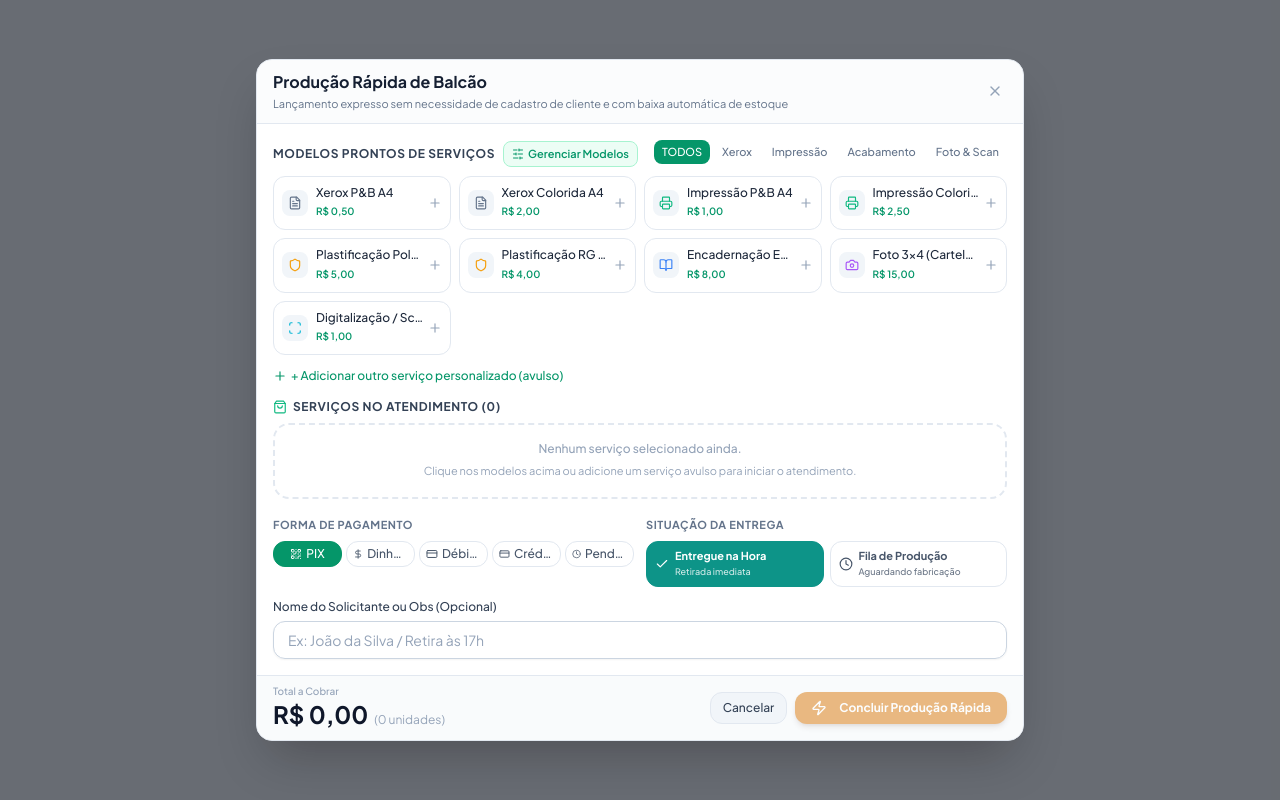
Test: QuickProductionModal › increments and decrements material quantity per unit as clean integers without decimals
# Add 1 Xerox P&B A4
Click the button "Xerox P&B A4 R$ 0,50": (362, 203) [273,176,450,230]
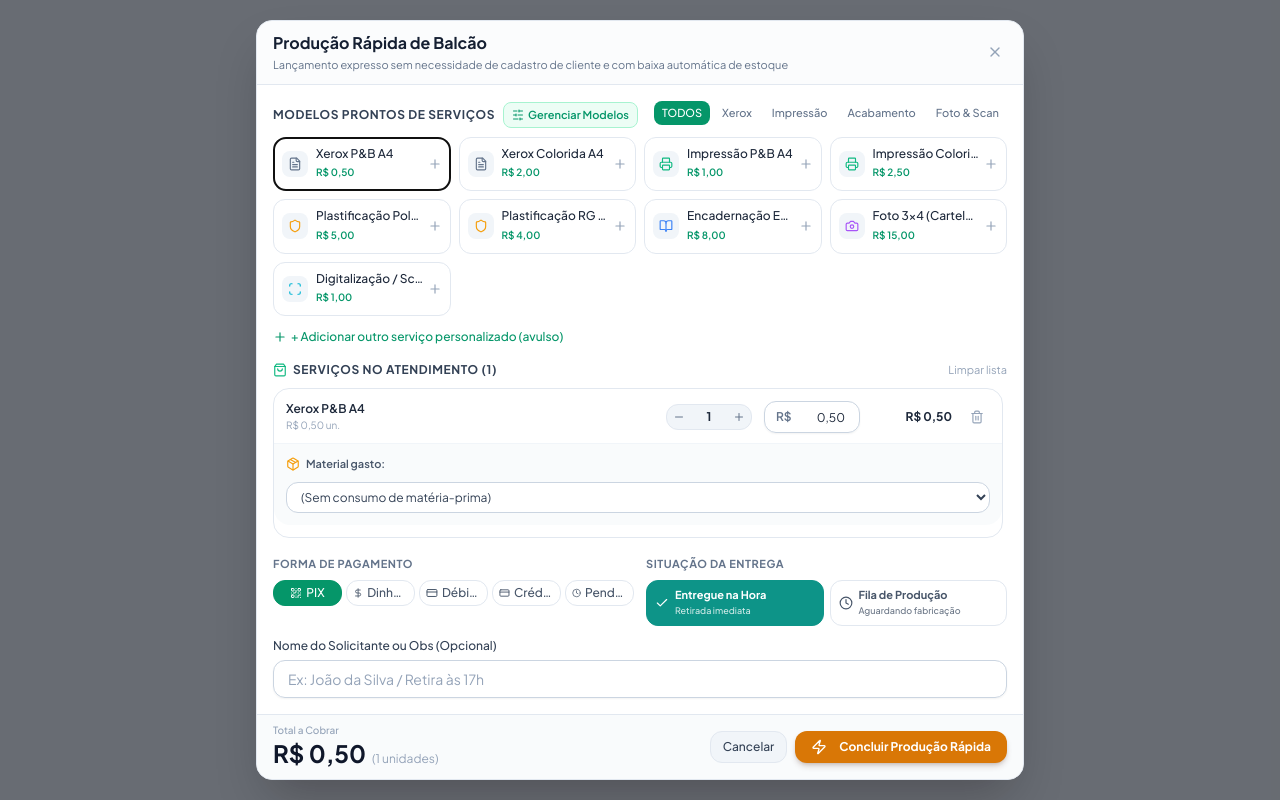
Select "Papel Sulfite A4 75g — Estoque: 2,500 FL" in the dropdown: (638, 498) [286,482,990,513]
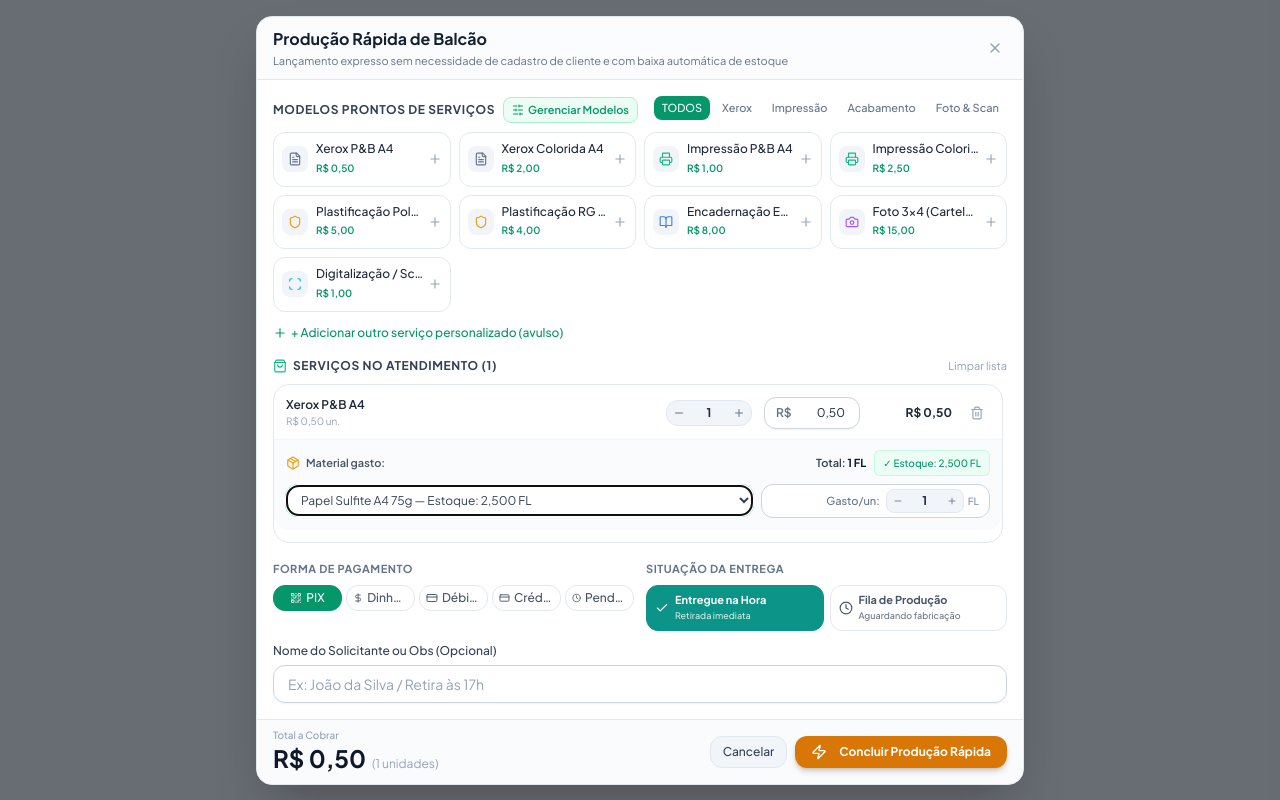
expect the text "1 FL" is shown: met, box [848,456,866,468]
expect the number field titled "Quantidade de material gasta por unidade deste serviço" holds "1": met, box [909,492,941,508]
# Clica para aumentar: deve ir para 2 (e não 1,01 ou 2,01)
Click the button named "aumentar gasto de material": (952, 500) [943,492,961,510]
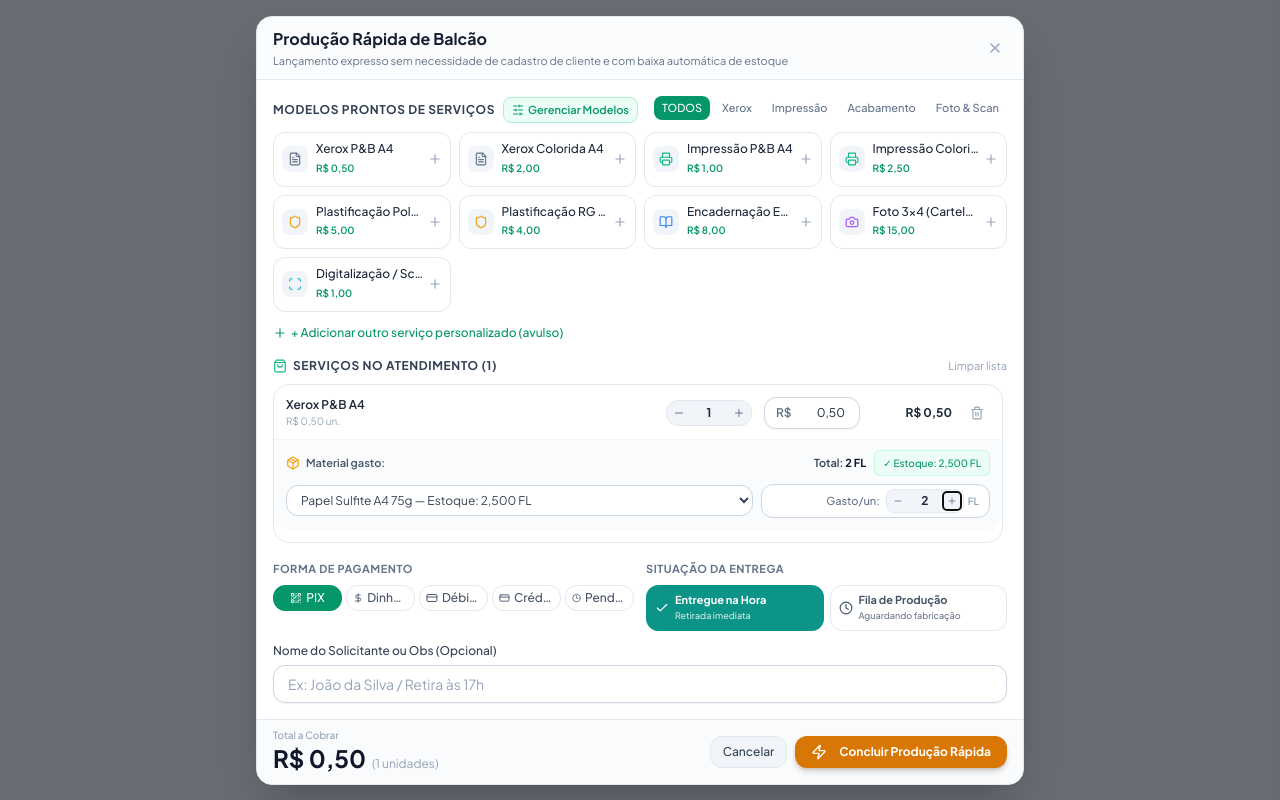
expect the number field titled "Quantidade de material gasta por unidade deste serviço" holds "2": met, box [909,492,941,508]
expect the text "2 FL" is shown: met, box [845,456,866,468]
# Clica para aumentar novamente: deve ir para 3
Click the button named "aumentar gasto de material": (952, 500) [943,492,961,510]
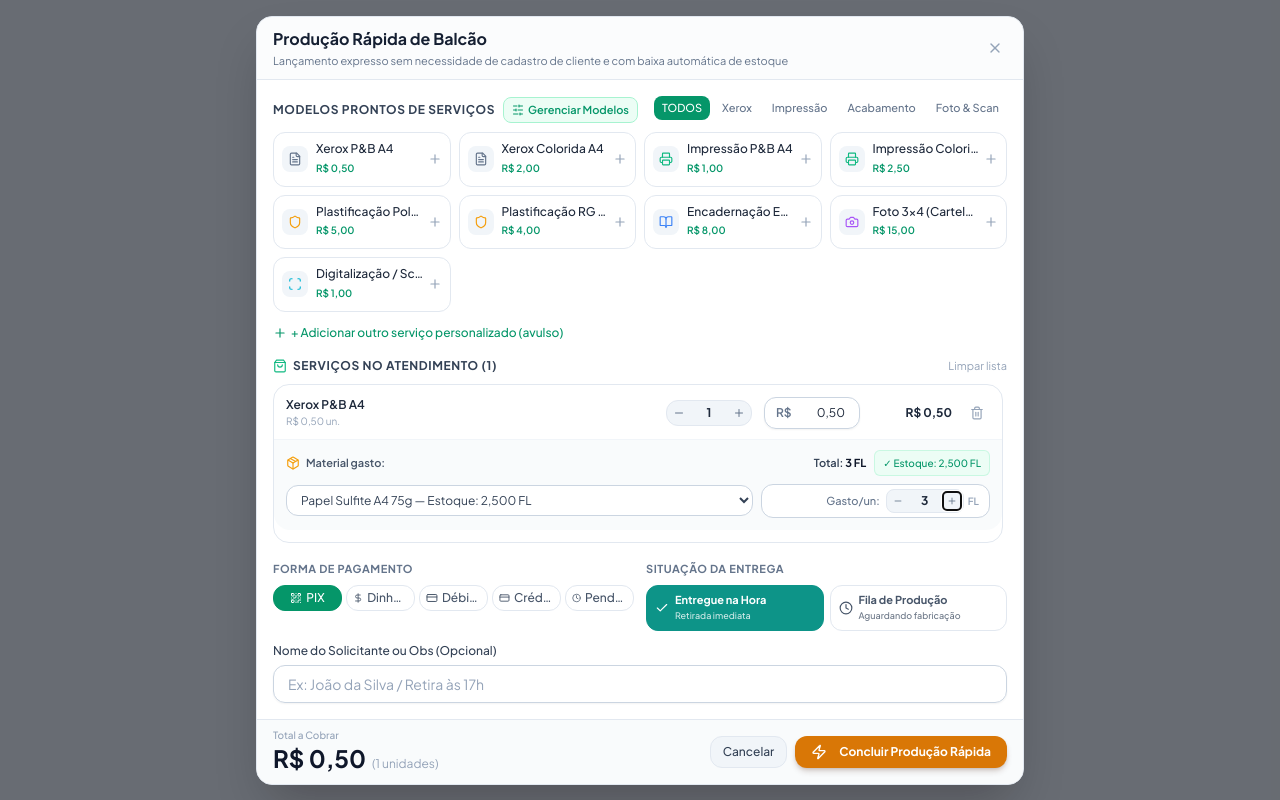
expect the number field titled "Quantidade de material gasta por unidade deste serviço" holds "3": met, box [909,492,941,508]
expect the text "3 FL" is shown: met, box [845,456,866,468]
# Clica para diminuir: deve voltar para 2
Click the button named "diminuir gasto de material": (898, 500) [889,492,907,510]
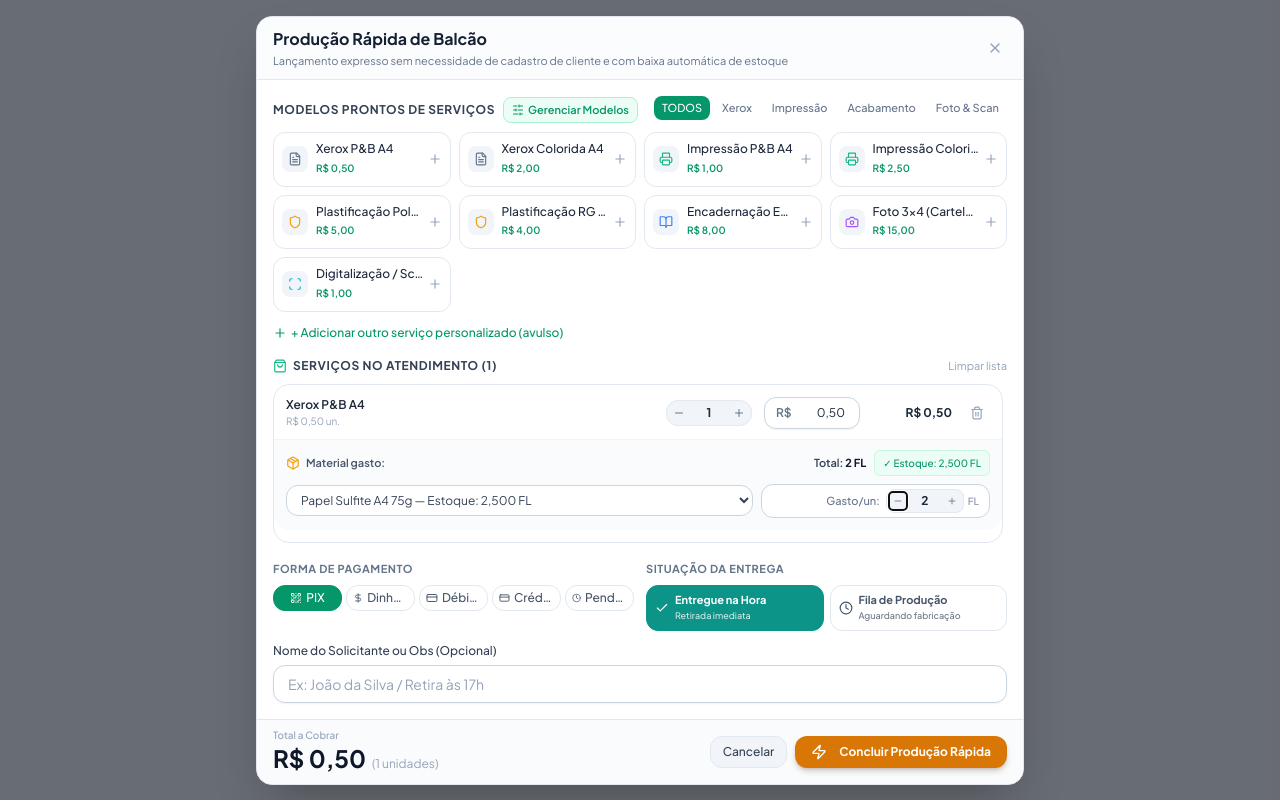
expect the number field titled "Quantidade de material gasta por unidade deste serviço" holds "2": met, box [909,492,941,508]
expect the text "2 FL" is shown: met, box [845,456,866,468]
